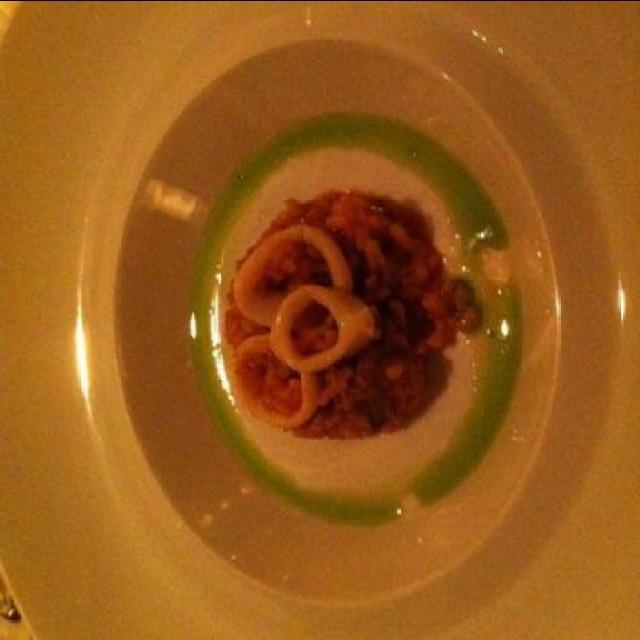Risotto: (236, 186, 428, 444)
